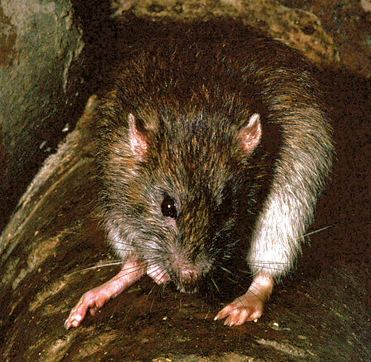rat: (53, 13, 342, 337)
